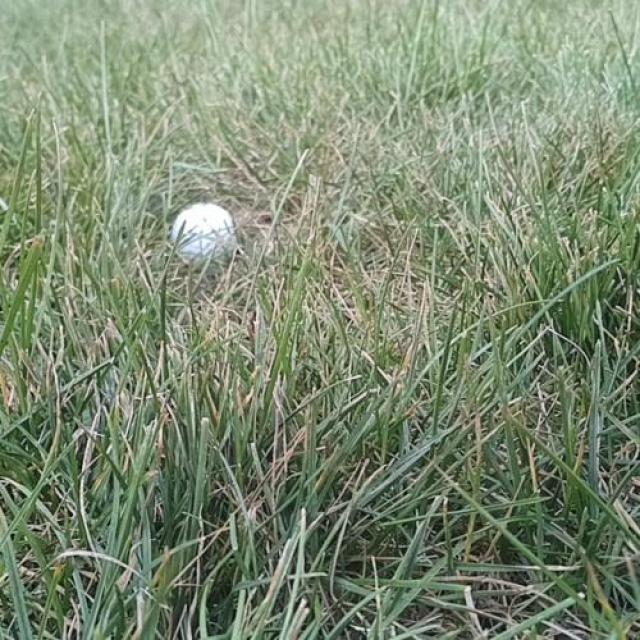golfball: (167, 197, 240, 270)
